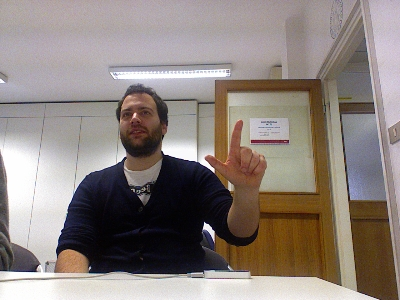枪: (203, 118, 266, 187)
